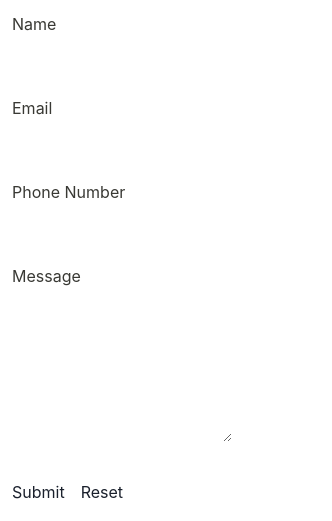
Test: ContactForm › should display validation messages for each field when the form is submitted with empty fields
The image size is (332, 521).
Click the button "Submit". click: (38, 492)
box: 12,480 -> 65,504
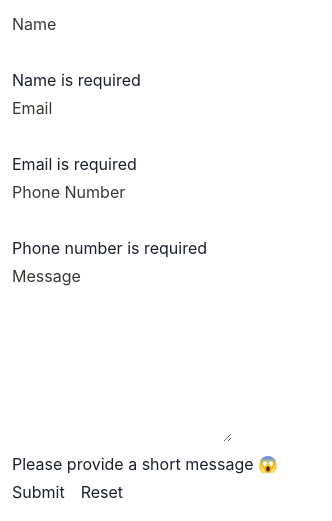
Expected: the text "Name is required" is shown, 12,68 -> 141,92
Expected: the text "Email is required" is shown, 12,152 -> 137,176
Expected: the text "Phone number is required" is shown, 12,236 -> 207,260
